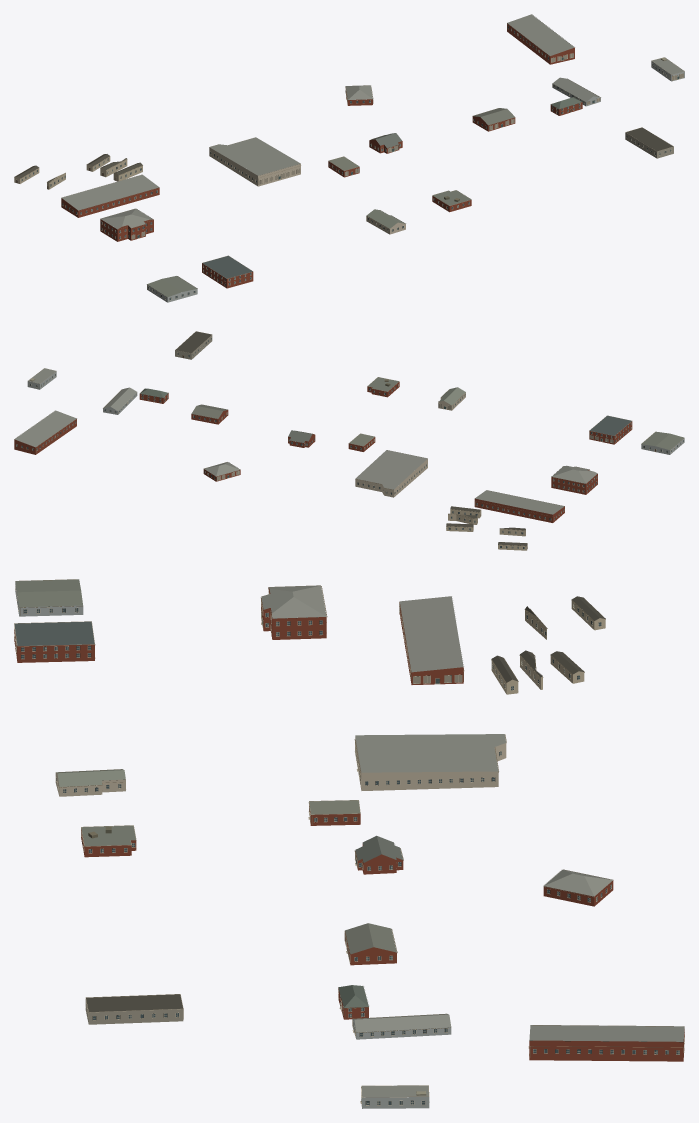
3 views of the same model, one above another, from view 1: azimuth 30°, elevation 25°; view 2: azimuth 150°, elevation 25°; view 3: azimuth 270°, elevation 25° (orthographic). The views are drawn at different scales.
Parts seen in each view (by area): view 1: -9_0_270268549_0, -9_0_270474131_7, -9_0_-3330_24, -9_0_270268616_4; view 2: -9_0_270268549_0, -9_0_-3330_24, -9_0_270474131_7, -9_0_270268616_4; view 3: -9_0_270268549_0, -9_0_270474131_7, -9_0_270268616_4, -9_0_-3330_24, -9_0_-6972520291_33.
Part boxes in pixels (<box>): -9_0_270268549_0: <box>14,14,684,300</box>; -9_0_270474131_7: <box>209,147,405,234</box>; -9_0_-3330_24: <box>14,156,142,189</box>; -9_0_270268616_4: <box>147,61,684,302</box>; -9_0_270268549_0: <box>14,331,684,549</box>; -9_0_-3330_24: <box>446,509,527,550</box>; -9_0_270474131_7: <box>355,392,465,497</box>; -9_0_270268616_4: <box>27,371,684,454</box>; -9_0_270268549_0: <box>14,579,684,1106</box>; -9_0_270474131_7: <box>55,737,506,796</box>; -9_0_270268616_4: <box>15,583,451,1108</box>; -9_0_-3330_24: <box>491,600,605,694</box>; -9_0_-6972520291_33: <box>85,999,183,1024</box>.
Size of the model in its own units: 487 by 16.22 by 265.
